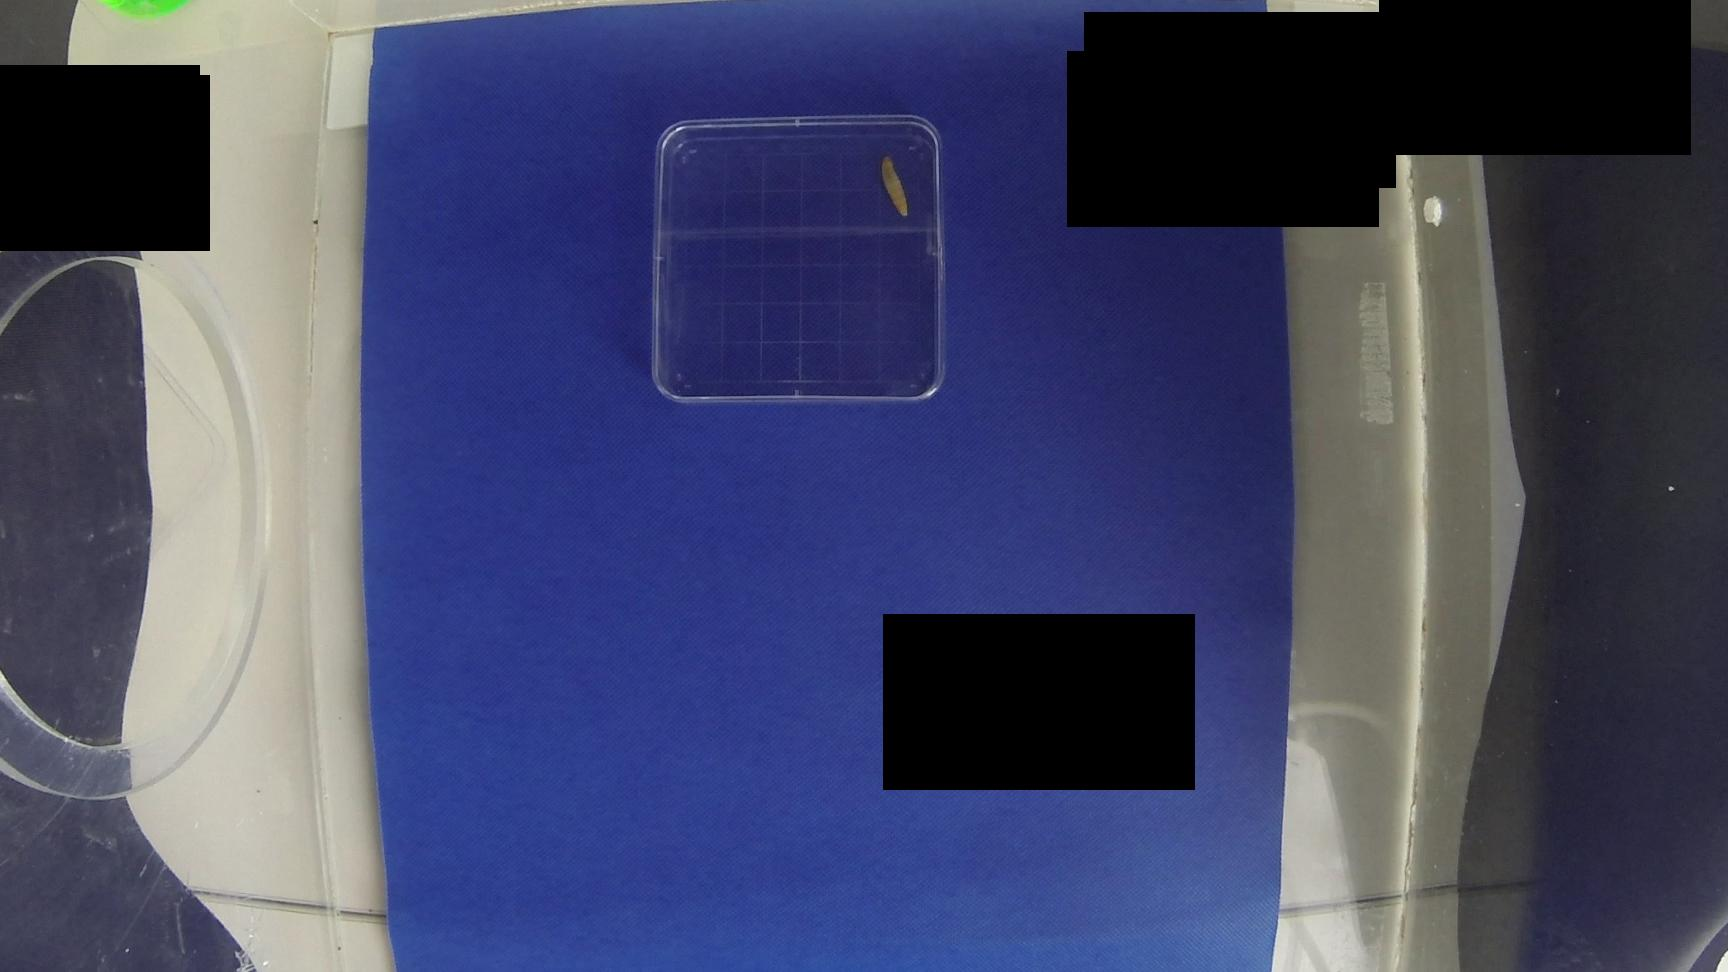larva: (884, 160, 913, 221)
